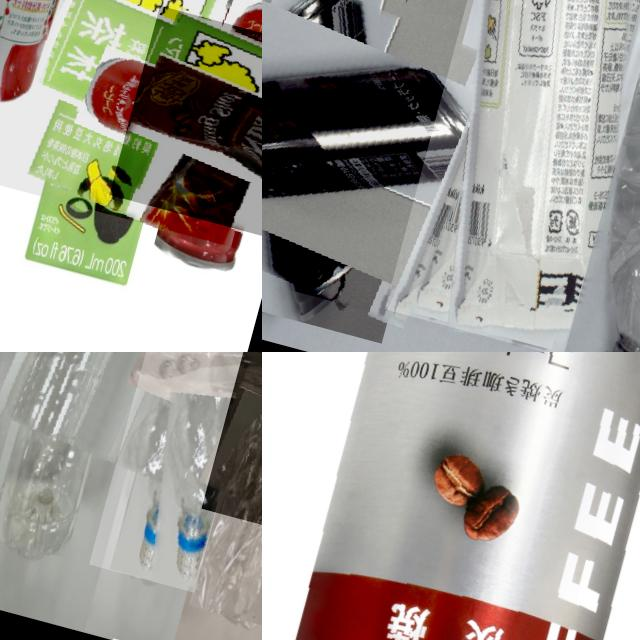Aluminium Foil: (384, 0, 640, 352), (0, 0, 262, 248)
Can: (262, 352, 640, 640), (262, 0, 513, 328), (108, 5, 262, 239), (0, 0, 104, 114)
Transparent Plastic Bottle: (89, 352, 262, 593), (0, 352, 262, 489), (547, 0, 640, 352), (0, 352, 96, 571), (190, 352, 262, 627)
